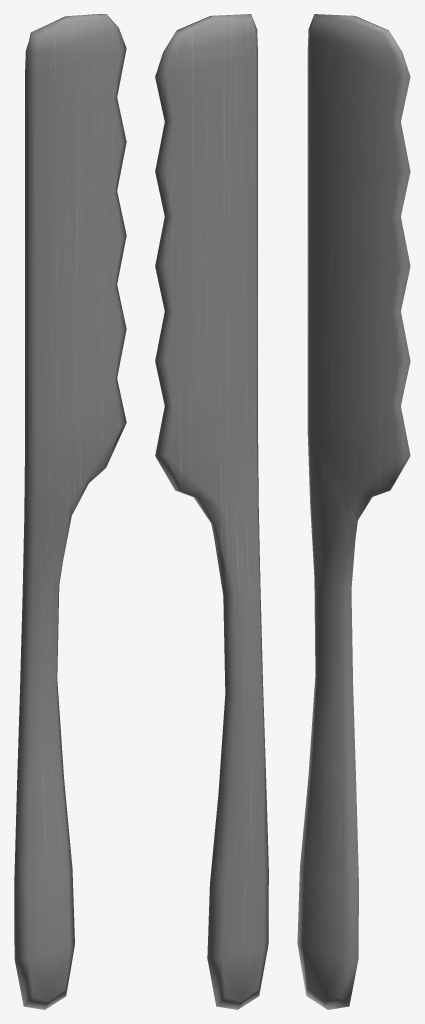
The model's file is knifetable.glb.
The picture shows the model from 3 angles, left to right: view 1: azimuth 30°, elevation 25°; view 2: azimuth 210°, elevation 25°; view 3: azimuth 330°, elevation 25°; orthographic projection.
Parts seen in each view (by area): view 1: knifetable; view 2: knifetable; view 3: knifetable.
Part boxes in pixels (box(x1,y1,x2,y2)): knifetable: box(14, 14, 126, 1009); knifetable: box(155, 14, 268, 1009); knifetable: box(297, 14, 410, 1009).
Size of the model in its own units: 0.0241 by 0.203 by 0.00582.
Materials: 1 (1 with a texture image).
